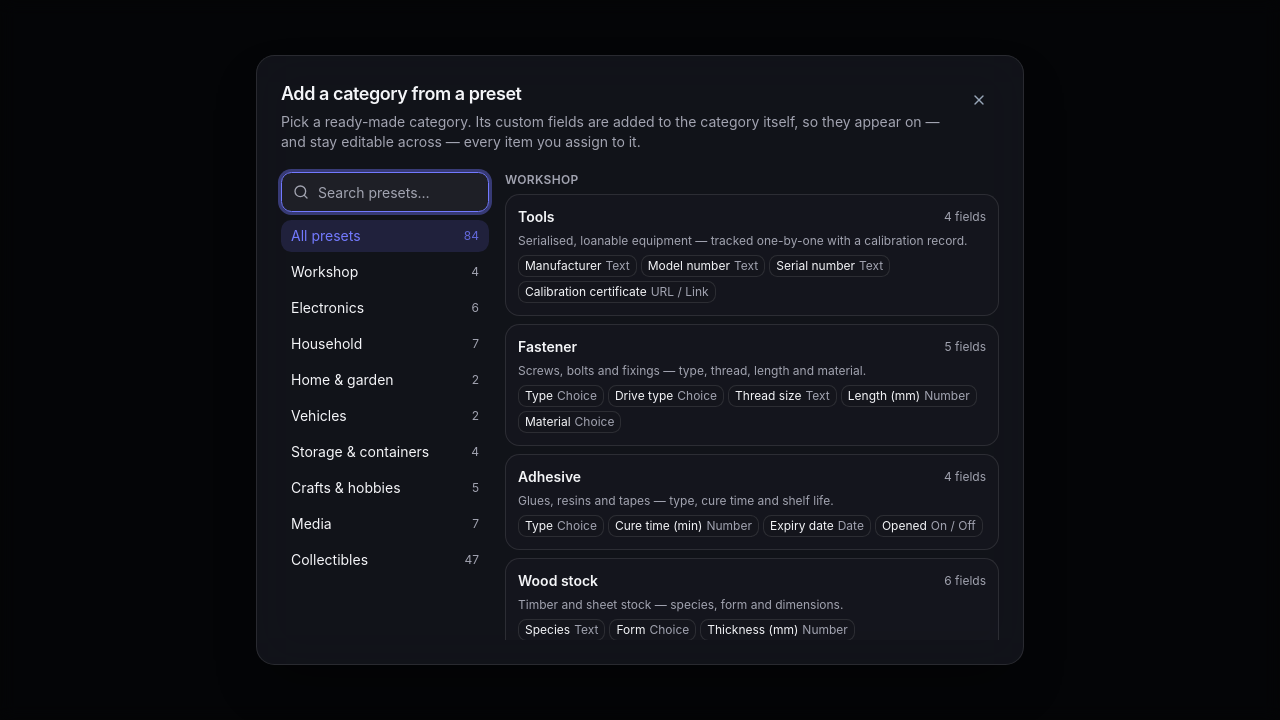
Test case: CategoryPresetPickerDialog — importing › surfaces a failed import in an alert instead of silently reverting
The width and height of the screenshot is (1280, 720).
Click the button with aria-label "Add Tools preset" at (752, 255), box left=505, top=194, right=999, bottom=316
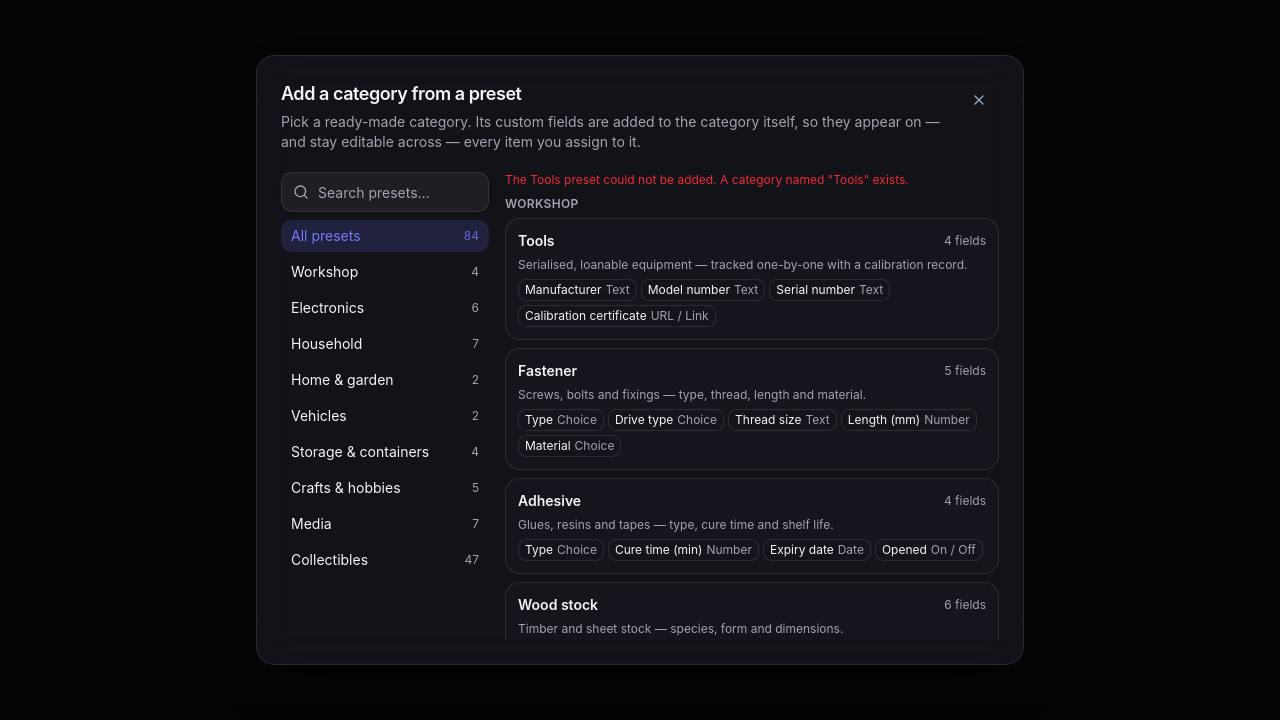
Expected: the button with aria-label "Add Tools preset" is enabled, left=505, top=218, right=999, bottom=340
Result: the message reads "The Tools preset could not be added. A category named \"Tools\" exists." at left=505, top=172, right=909, bottom=187
